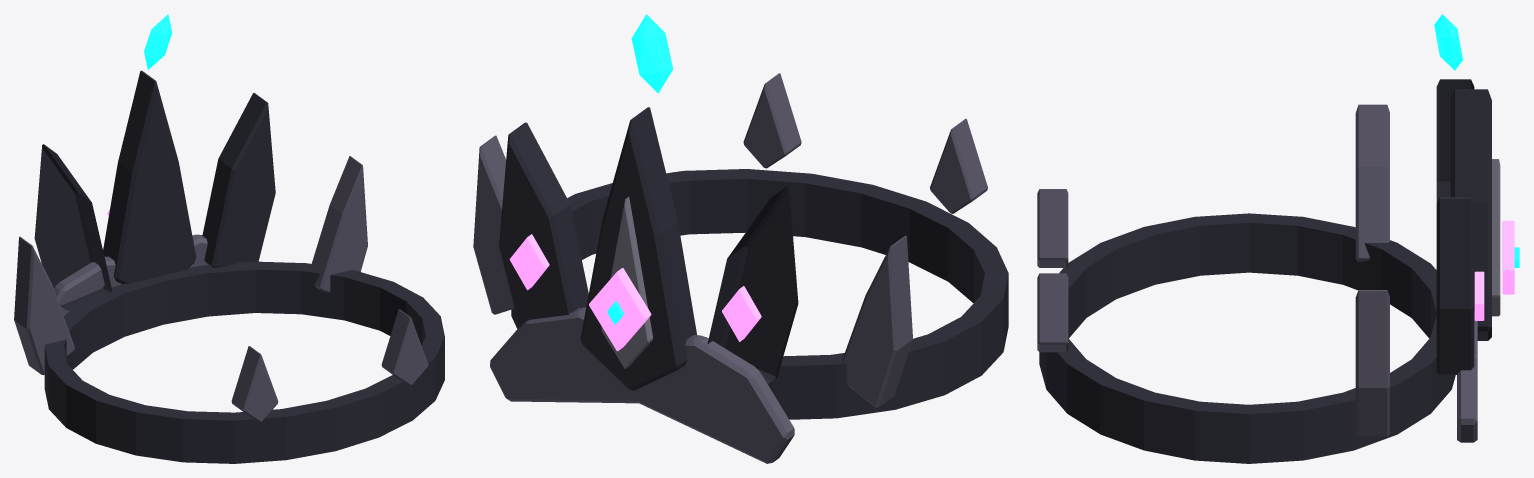
Rendered from Crown_Of_The_Unmade.fbx.
3 views of the same model, side by side, from view 1: azimuth 30°, elevation 25°; view 2: azimuth 150°, elevation 25°; view 3: azimuth 270°, elevation 25° (orthographic). The views are drawn at different scales.
Visible parts, largest first — view 1: Crown_Circlet, Central_Prong, Secondary_Prong_R, Secondary_Prong_L, Temple_Prong_R, Temple_Prong_L, Rear_Prong_R, Rear_Prong_L, Front_Brow_Plate, Apex_Void_Fragment; view 2: Crown_Circlet, Front_Brow_Plate, Central_Prong, Secondary_Prong_R, Secondary_Prong_L, Temple_Prong_L, Temple_Prong_R, Rear_Prong_R, Rear_Prong_L, Forehead_Gem, Central_Prong_Inset, Apex_Void_Fragment (+2 smaller); view 3: Crown_Circlet, Secondary_Prong_R, Central_Prong, Temple_Prong_R, Temple_Prong_L, Rear_Prong_R, Rear_Prong_L, Secondary_Prong_L, Front_Brow_Plate, Central_Prong_Inset, Apex_Void_Fragment, Forehead_Gem (+1 smaller).
Part boxes in pixels (x1=…): Crown_Circlet: x1=44, y1=261, x2=444, y2=463; Central_Prong: x1=103, y1=70, x2=196, y2=284; Secondary_Prong_R: x1=202, y1=93, x2=275, y2=267; Secondary_Prong_L: x1=34, y1=144, x2=111, y2=310; Temple_Prong_R: x1=311, y1=156, x2=367, y2=292; Temple_Prong_L: x1=14, y1=236, x2=74, y2=375; Rear_Prong_R: x1=381, y1=309, x2=428, y2=385; Rear_Prong_L: x1=231, y1=346, x2=278, y2=422; Front_Brow_Plate: x1=54, y1=234, x2=208, y2=315; Apex_Void_Fragment: x1=144, y1=14, x2=172, y2=69; Crown_Circlet: x1=511, y1=169, x2=1008, y2=419; Front_Brow_Plate: x1=490, y1=307, x2=794, y2=463; Central_Prong: x1=580, y1=107, x2=696, y2=390; Secondary_Prong_R: x1=499, y1=122, x2=588, y2=327; Secondary_Prong_L: x1=707, y1=186, x2=798, y2=384; Temple_Prong_L: x1=842, y1=235, x2=912, y2=407; Temple_Prong_R: x1=473, y1=135, x2=514, y2=314; Rear_Prong_R: x1=743, y1=73, x2=801, y2=168; Rear_Prong_L: x1=930, y1=118, x2=987, y2=213; Forehead_Gem: x1=589, y1=268, x2=651, y2=351; Central_Prong_Inset: x1=601, y1=197, x2=652, y2=368; Apex_Void_Fragment: x1=631, y1=14, x2=673, y2=93; Crown_Circlet: x1=1039, y1=213, x2=1455, y2=463; Secondary_Prong_R: x1=1436, y1=197, x2=1474, y2=374; Central_Prong: x1=1450, y1=89, x2=1491, y2=340; Temple_Prong_R: x1=1355, y1=290, x2=1389, y2=436; Temple_Prong_L: x1=1355, y1=104, x2=1389, y2=261; Rear_Prong_R: x1=1037, y1=273, x2=1068, y2=352; Rear_Prong_L: x1=1037, y1=189, x2=1068, y2=267; Secondary_Prong_L: x1=1436, y1=79, x2=1474, y2=203; Front_Brow_Plate: x1=1457, y1=311, x2=1477, y2=442; Central_Prong_Inset: x1=1492, y1=159, x2=1500, y2=316; Apex_Void_Fragment: x1=1434, y1=14, x2=1462, y2=70; Forehead_Gem: x1=1502, y1=220, x2=1514, y2=294.
Size of the model in its own units: 69 by 60.1 by 70.05.
